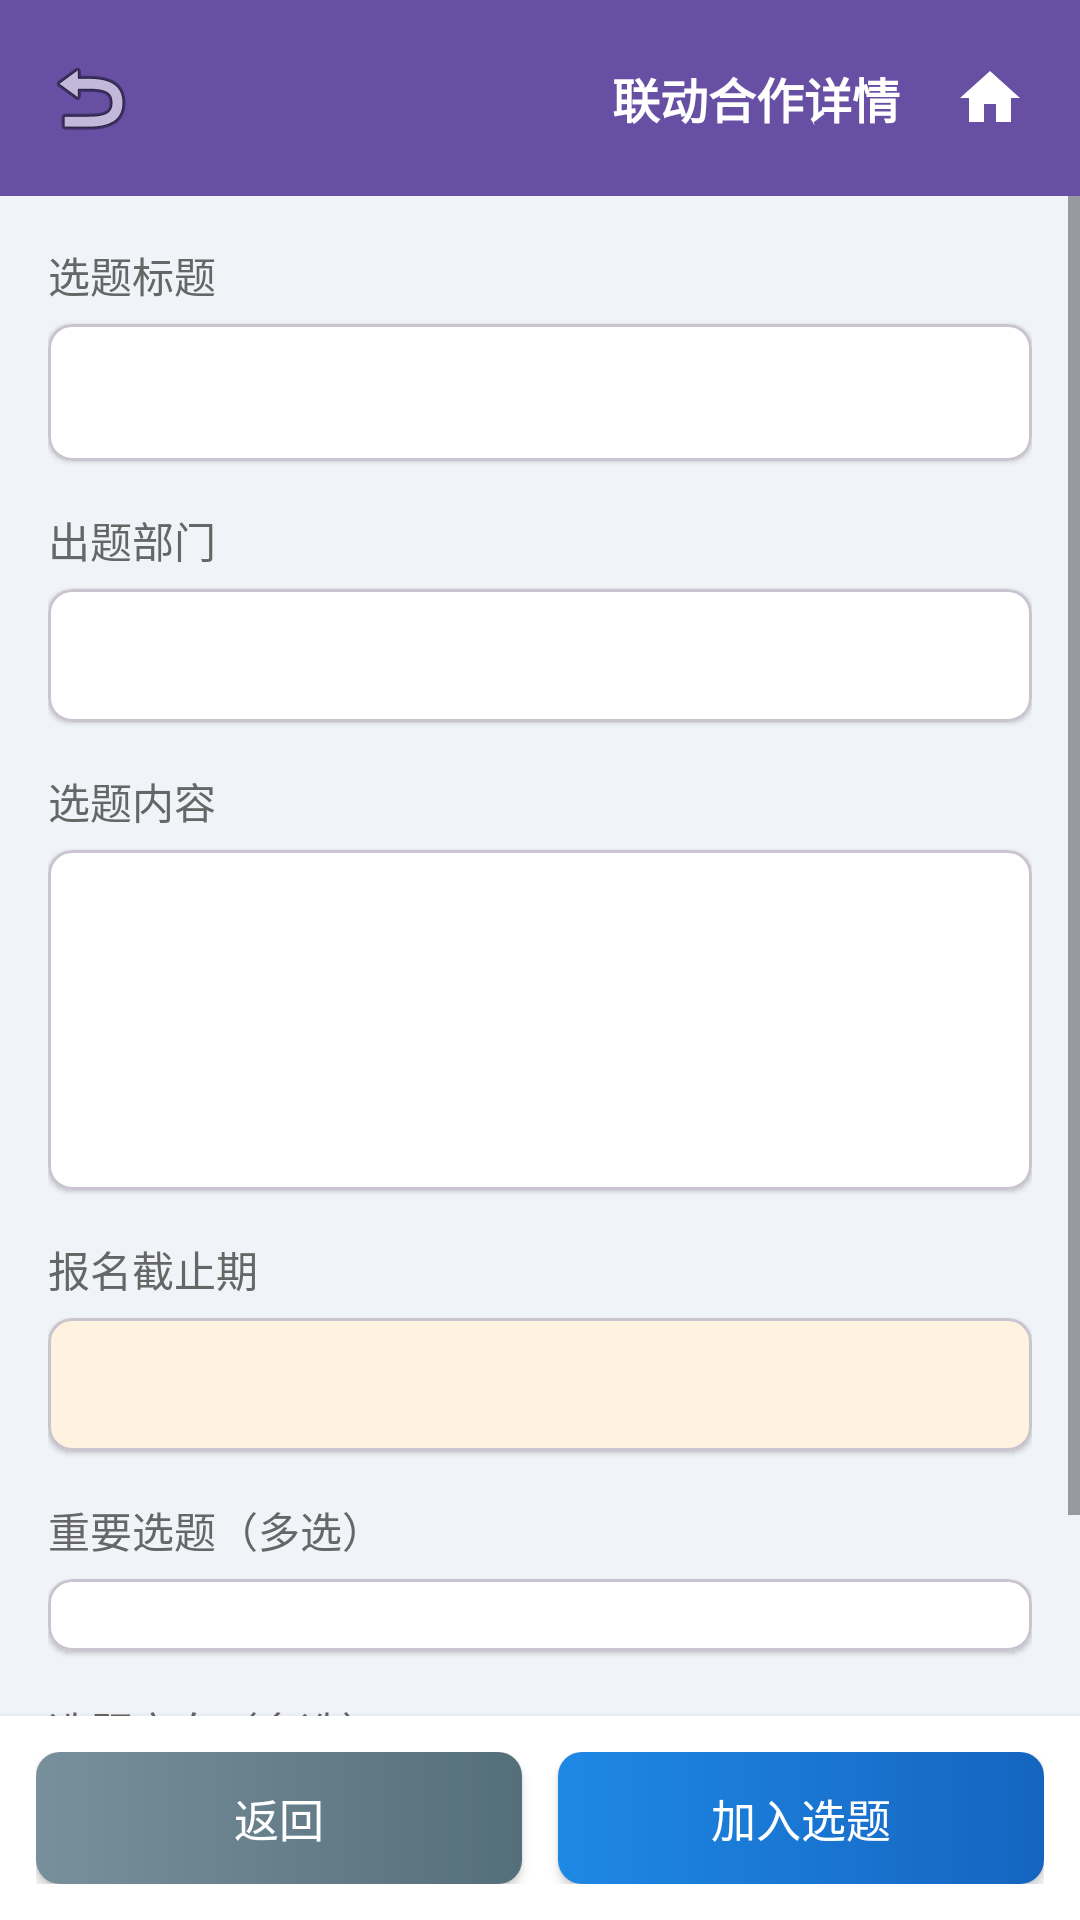

Named icons in this screenshot (1080 x 1920) and their centers, [x,y]:
主页面: [990,96]
返回: [91,98]
